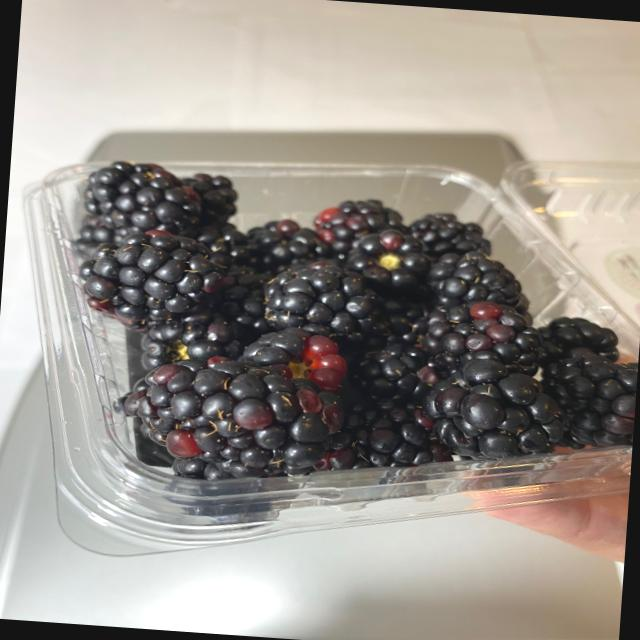blackberries: (39, 154, 640, 477)
